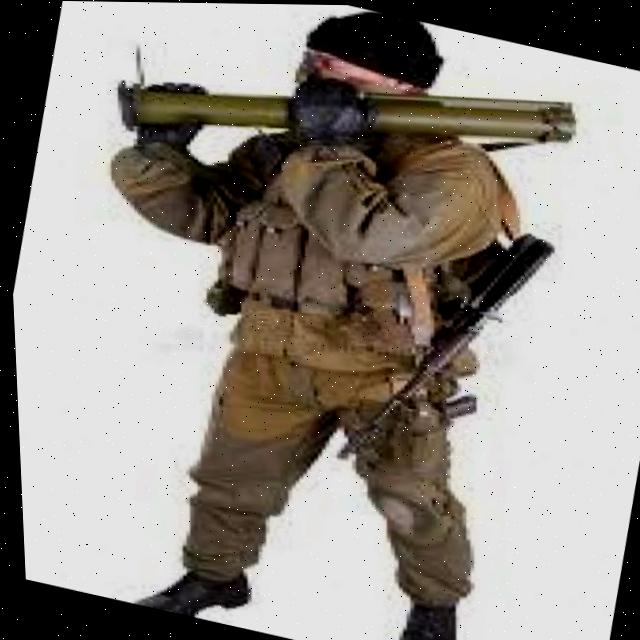rocket: (91, 1, 591, 246)
